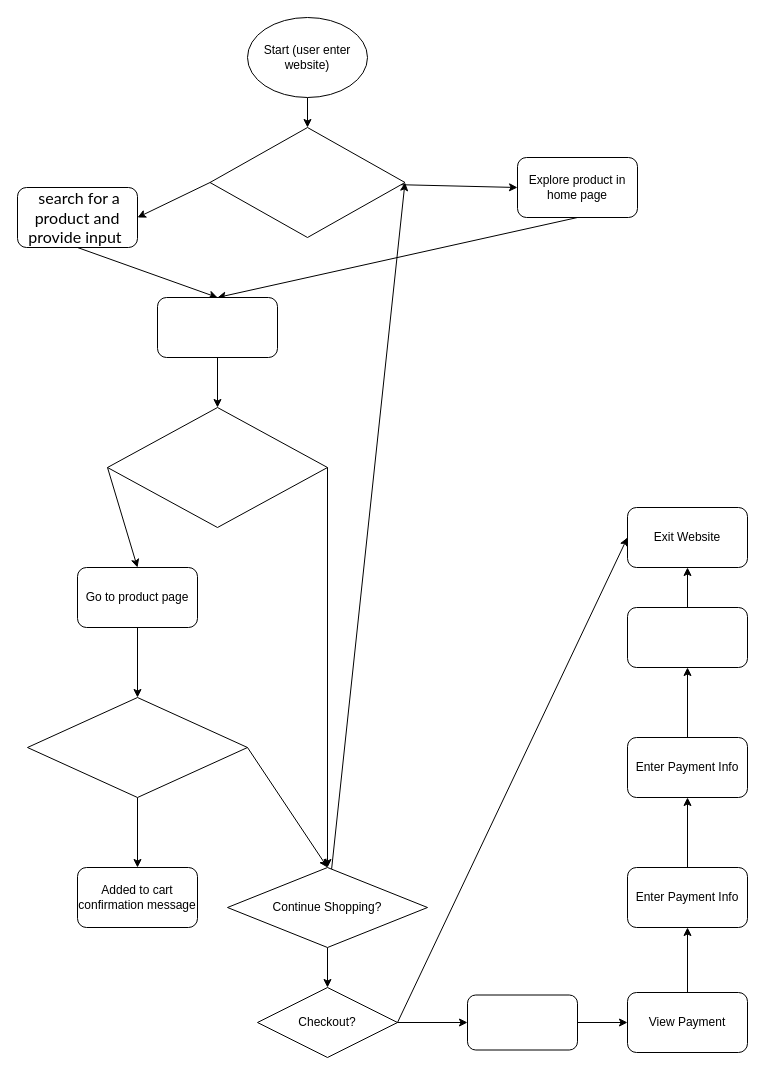
This 765x1075 diagram has some shape labels left out. The shapes that lost their labels are listed below. From the top down, each one's centre as x and y in pixels, then its label:
At point (307, 182): "User chooses: Search OR Explore products on home page".
At point (217, 327): "User looks over product catalog".
At point (217, 467): "User chooses to view a specific product or not".
At point (687, 637): "Order Confirmation Email".
At point (137, 747): "Add item to cart?".
At point (522, 1022): "View Cart".
